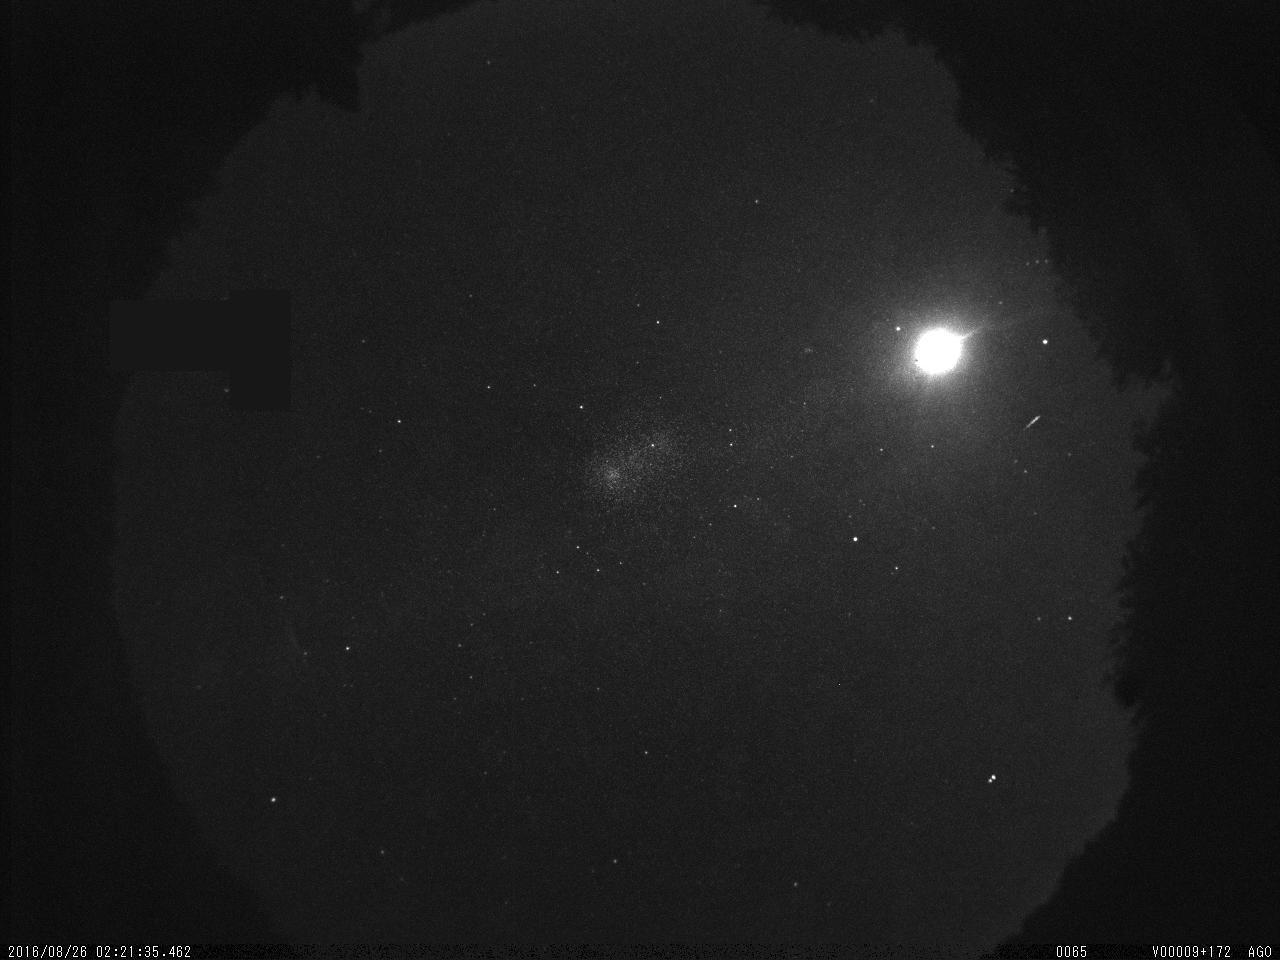meteor: (1020, 406, 1049, 439)
